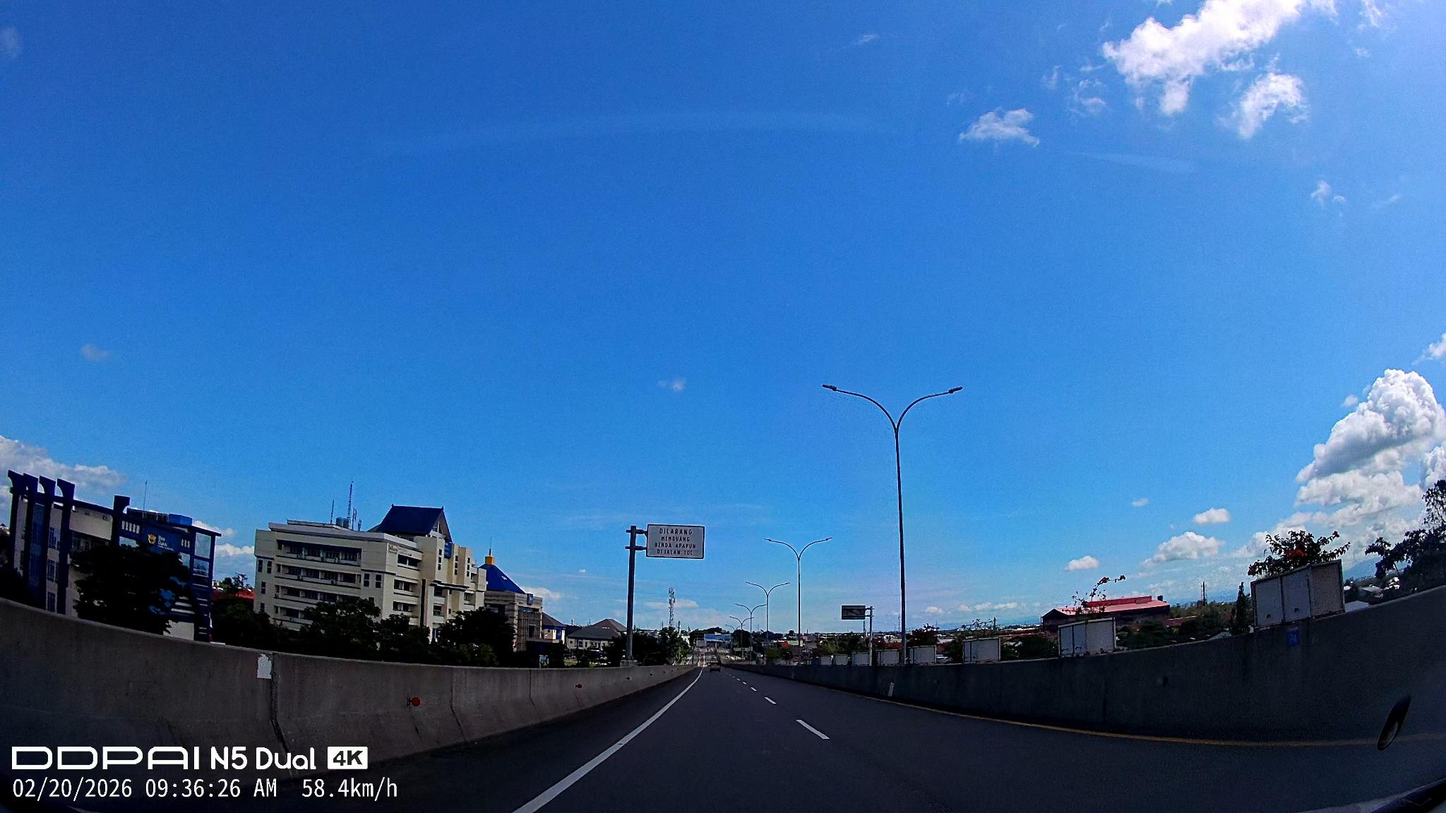rambu_teks: (646, 524, 705, 559)
